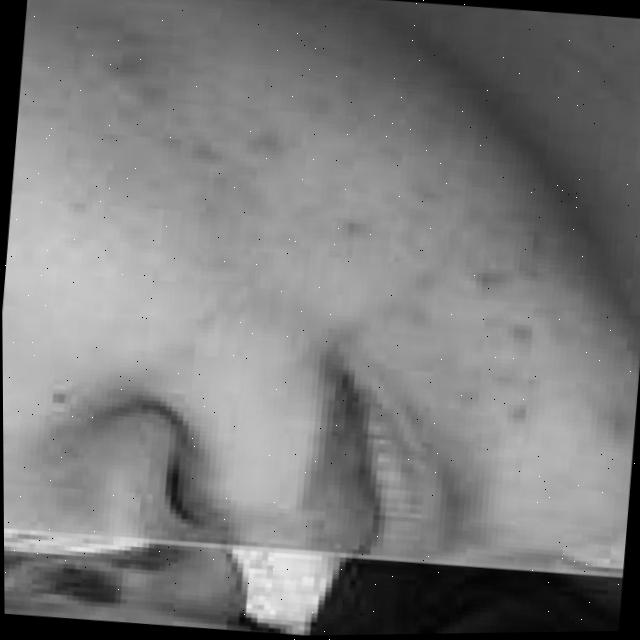Acne: (55, 51, 493, 371)
